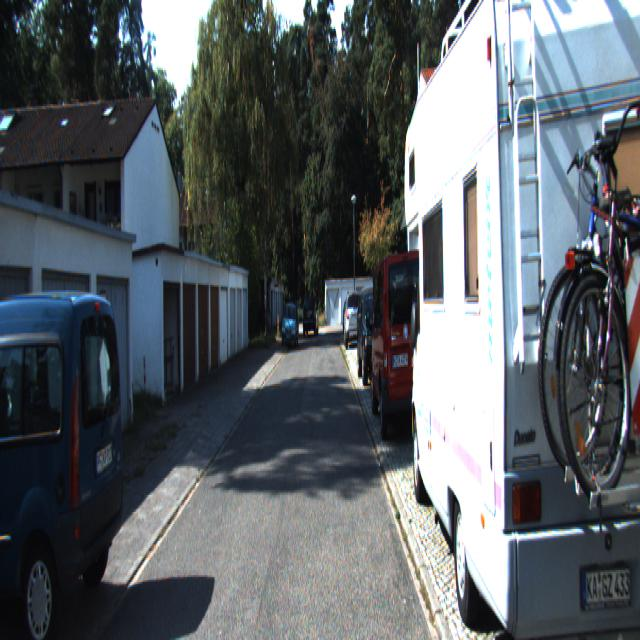Car: (405, 0, 612, 639), (0, 278, 130, 638), (369, 237, 443, 447), (356, 284, 393, 392), (344, 294, 364, 352), (282, 303, 298, 349), (303, 297, 319, 336)
